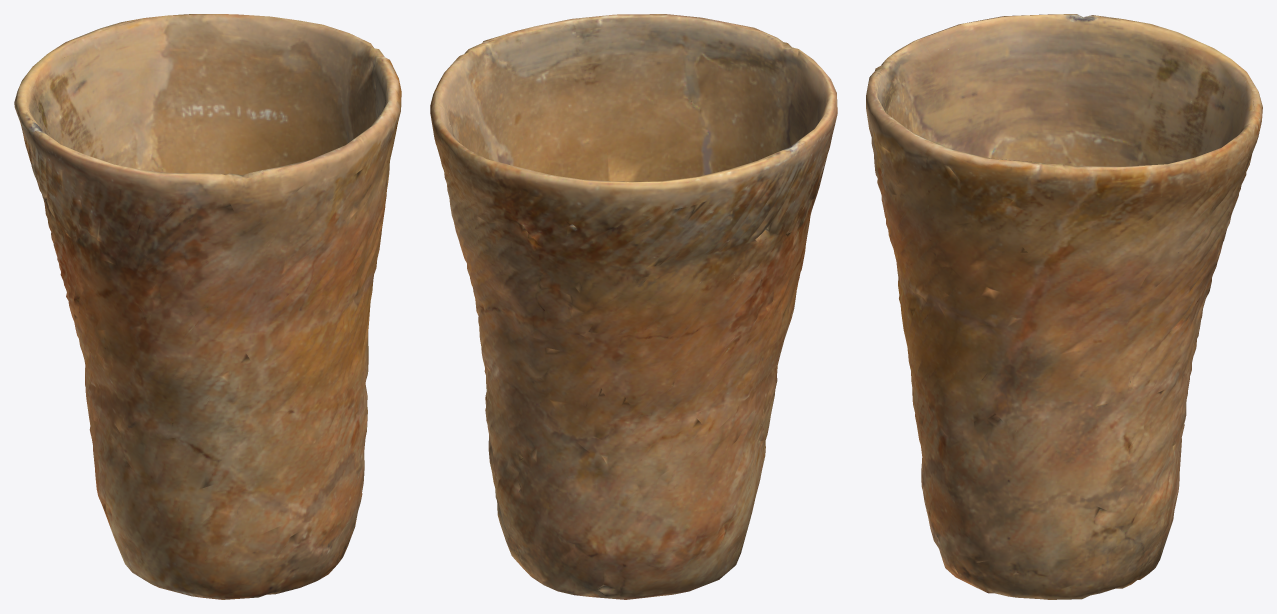
The picture shows the model from 3 angles, left to right: view 1: azimuth 30°, elevation 25°; view 2: azimuth 150°, elevation 25°; view 3: azimuth 270°, elevation 25°; orthographic projection. The views are drawn at different scales.
Visible parts, largest first — view 1: NM0099.low; view 2: NM0099.low; view 3: NM0099.low.
Part boxes in pixels (x1,y1,x2,y2): NM0099.low: (14, 14, 401, 599); NM0099.low: (430, 14, 837, 599); NM0099.low: (866, 14, 1262, 599).
Bounding box in the file's own units: 160 × 210 × 163.
Materials: 1 (1 with a texture image).
